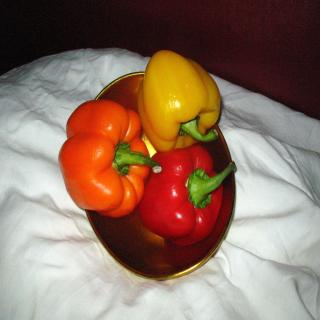Bell pepper: (58, 100, 160, 220), (136, 151, 237, 245), (137, 51, 221, 152)
